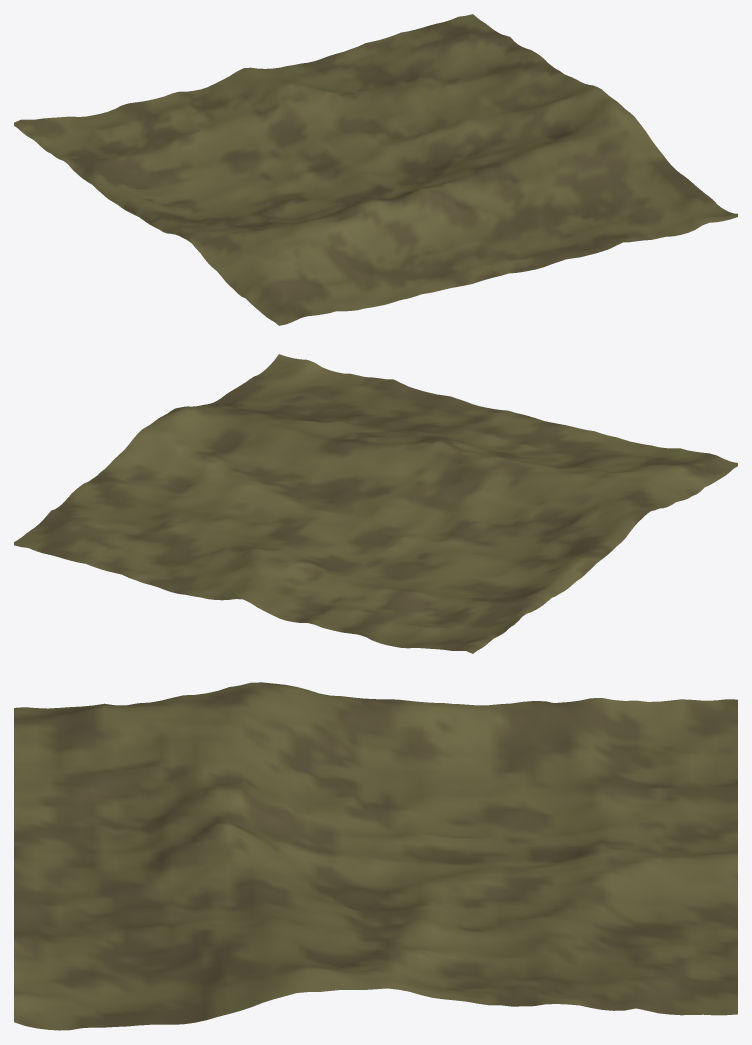
The model's file is land_f_08_07.glb.
The picture shows the model from 3 angles, top to bottom: view 1: azimuth 30°, elevation 25°; view 2: azimuth 150°, elevation 25°; view 3: azimuth 270°, elevation 25°; orthographic projection. The views are drawn at different scales.
Parts seen in each view (by area): view 1: land_f_08_07; view 2: land_f_08_07; view 3: land_f_08_07.
Boxes of the visible parts, x1,y1,x2,y2 form: land_f_08_07: (14,14,737,325); land_f_08_07: (14,354,737,653); land_f_08_07: (14,682,737,1030).
Size of the model in its own units: 3840 by 298 by 3840.
